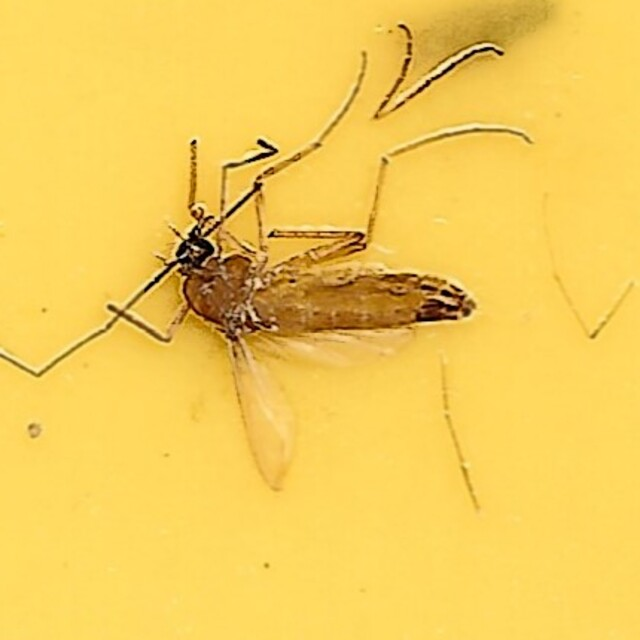Nematocera: (149, 143, 491, 497)
